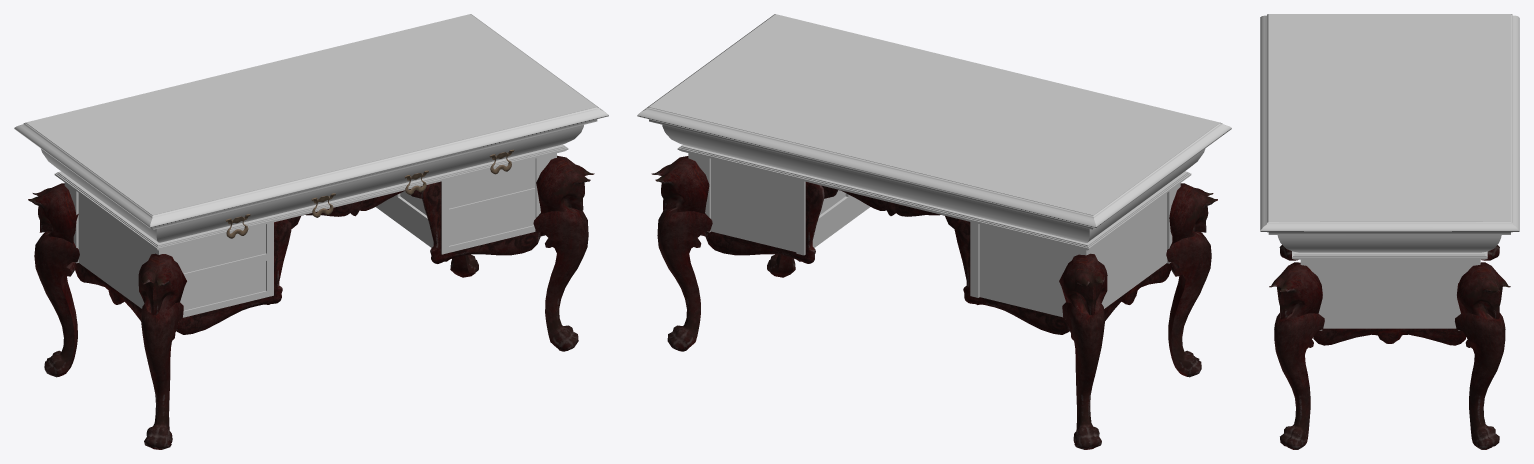
3 views of the same model, side by side, from view 1: azimuth 30°, elevation 25°; view 2: azimuth 150°, elevation 25°; view 3: azimuth 270°, elevation 25° (orthographic). The views are drawn at different scales.
Visible parts, largest first — view 1: Table_Top_low, Boxes_low, Wolf_Leg_LP, Roundpart_low, Big_orn, Midpart_low, Handles_LP, Middle_ornament_LP, side_orn_R; view 2: Table_Top_low, Boxes_low, Wolf_Leg_LP, Roundpart_low, Big_orn, Midpart_low, Middle_ornament_LP, side_orn_R; view 3: Table_Top_low, Wolf_Leg_LP, Boxes_low, Roundpart_low, side_orn_R, Midpart_low.
Part boxes in pixels (box(x1,y1,x2,y2)): Table_Top_low: box(14, 14, 608, 229); Boxes_low: box(64, 153, 556, 317); Wolf_Leg_LP: box(28, 155, 594, 449); Roundpart_low: box(41, 125, 583, 242); Big_orn: box(176, 181, 540, 334); Midpart_low: box(54, 144, 568, 250); Handles_LP: box(226, 149, 514, 238); Middle_ornament_LP: box(286, 186, 421, 228); side_orn_R: box(75, 232, 545, 320); Table_Top_low: box(637, 14, 1231, 229); Boxes_low: box(688, 153, 1180, 317); Wolf_Leg_LP: box(651, 156, 1217, 449); Roundpart_low: box(662, 125, 1205, 242); Big_orn: box(705, 182, 1069, 334); Midpart_low: box(677, 145, 1191, 250); Middle_ornament_LP: box(822, 185, 959, 228); side_orn_R: box(701, 232, 1171, 320); Table_Top_low: box(1260, 14, 1519, 234); Wolf_Leg_LP: box(1269, 245, 1510, 449); Boxes_low: box(1300, 259, 1480, 330); Roundpart_low: box(1277, 235, 1501, 252); side_orn_R: box(1313, 328, 1465, 345); Midpart_low: box(1292, 251, 1487, 259).
Size of the model in its own units: 24.07 by 12.43 by 12.34.
